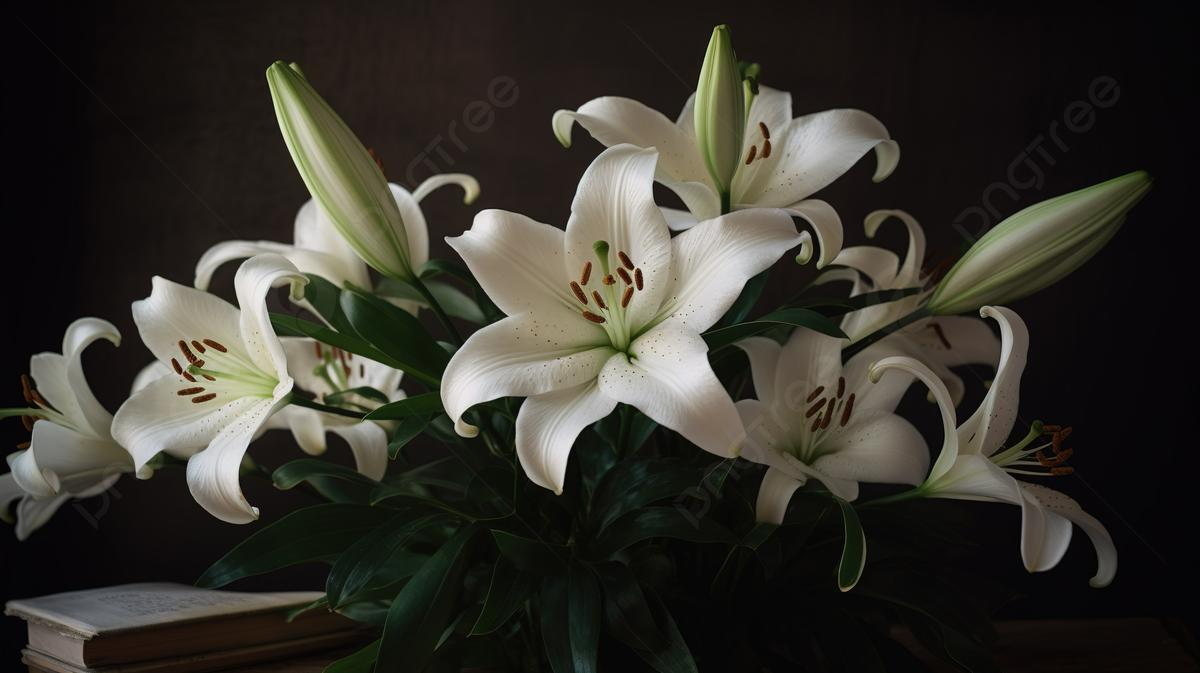lily: (451, 151, 793, 486), (869, 295, 1139, 600), (108, 268, 304, 518), (727, 315, 946, 514)
